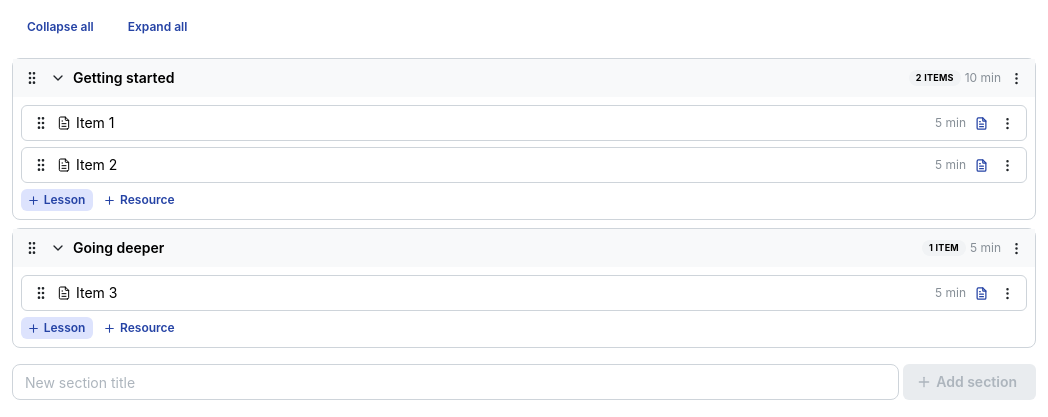
CurriculumBuilder › collapses and expands every section
Expected: the text "Getting started" is shown, [73,68,174,88]
Click the button "Collapse all" at (60, 27), box [12,12,109,42]
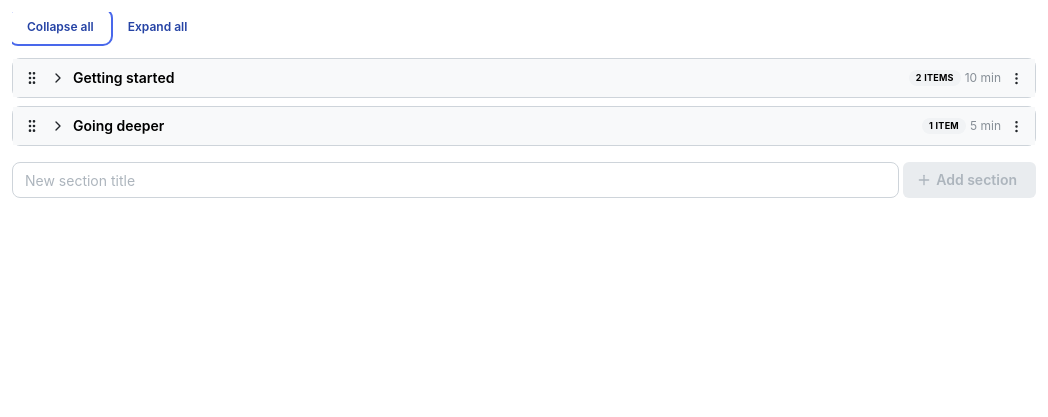
Result: the button named "expand getting started" is shown at [47,67,69,89]
